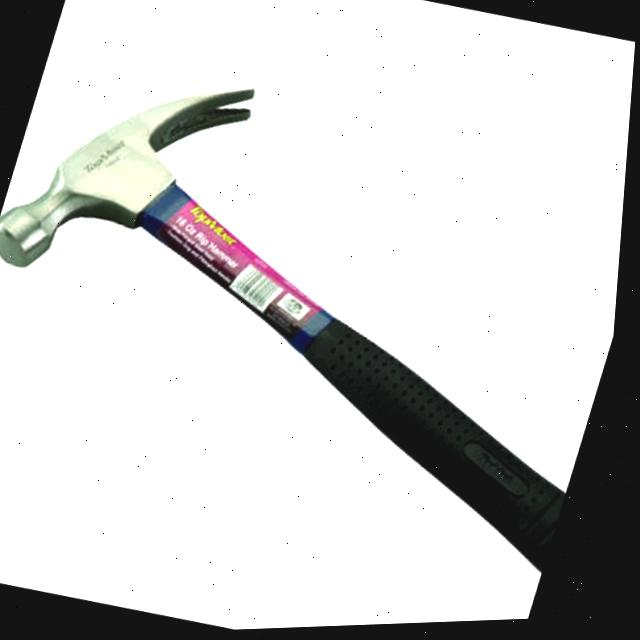hammer: (0, 24, 637, 601)
